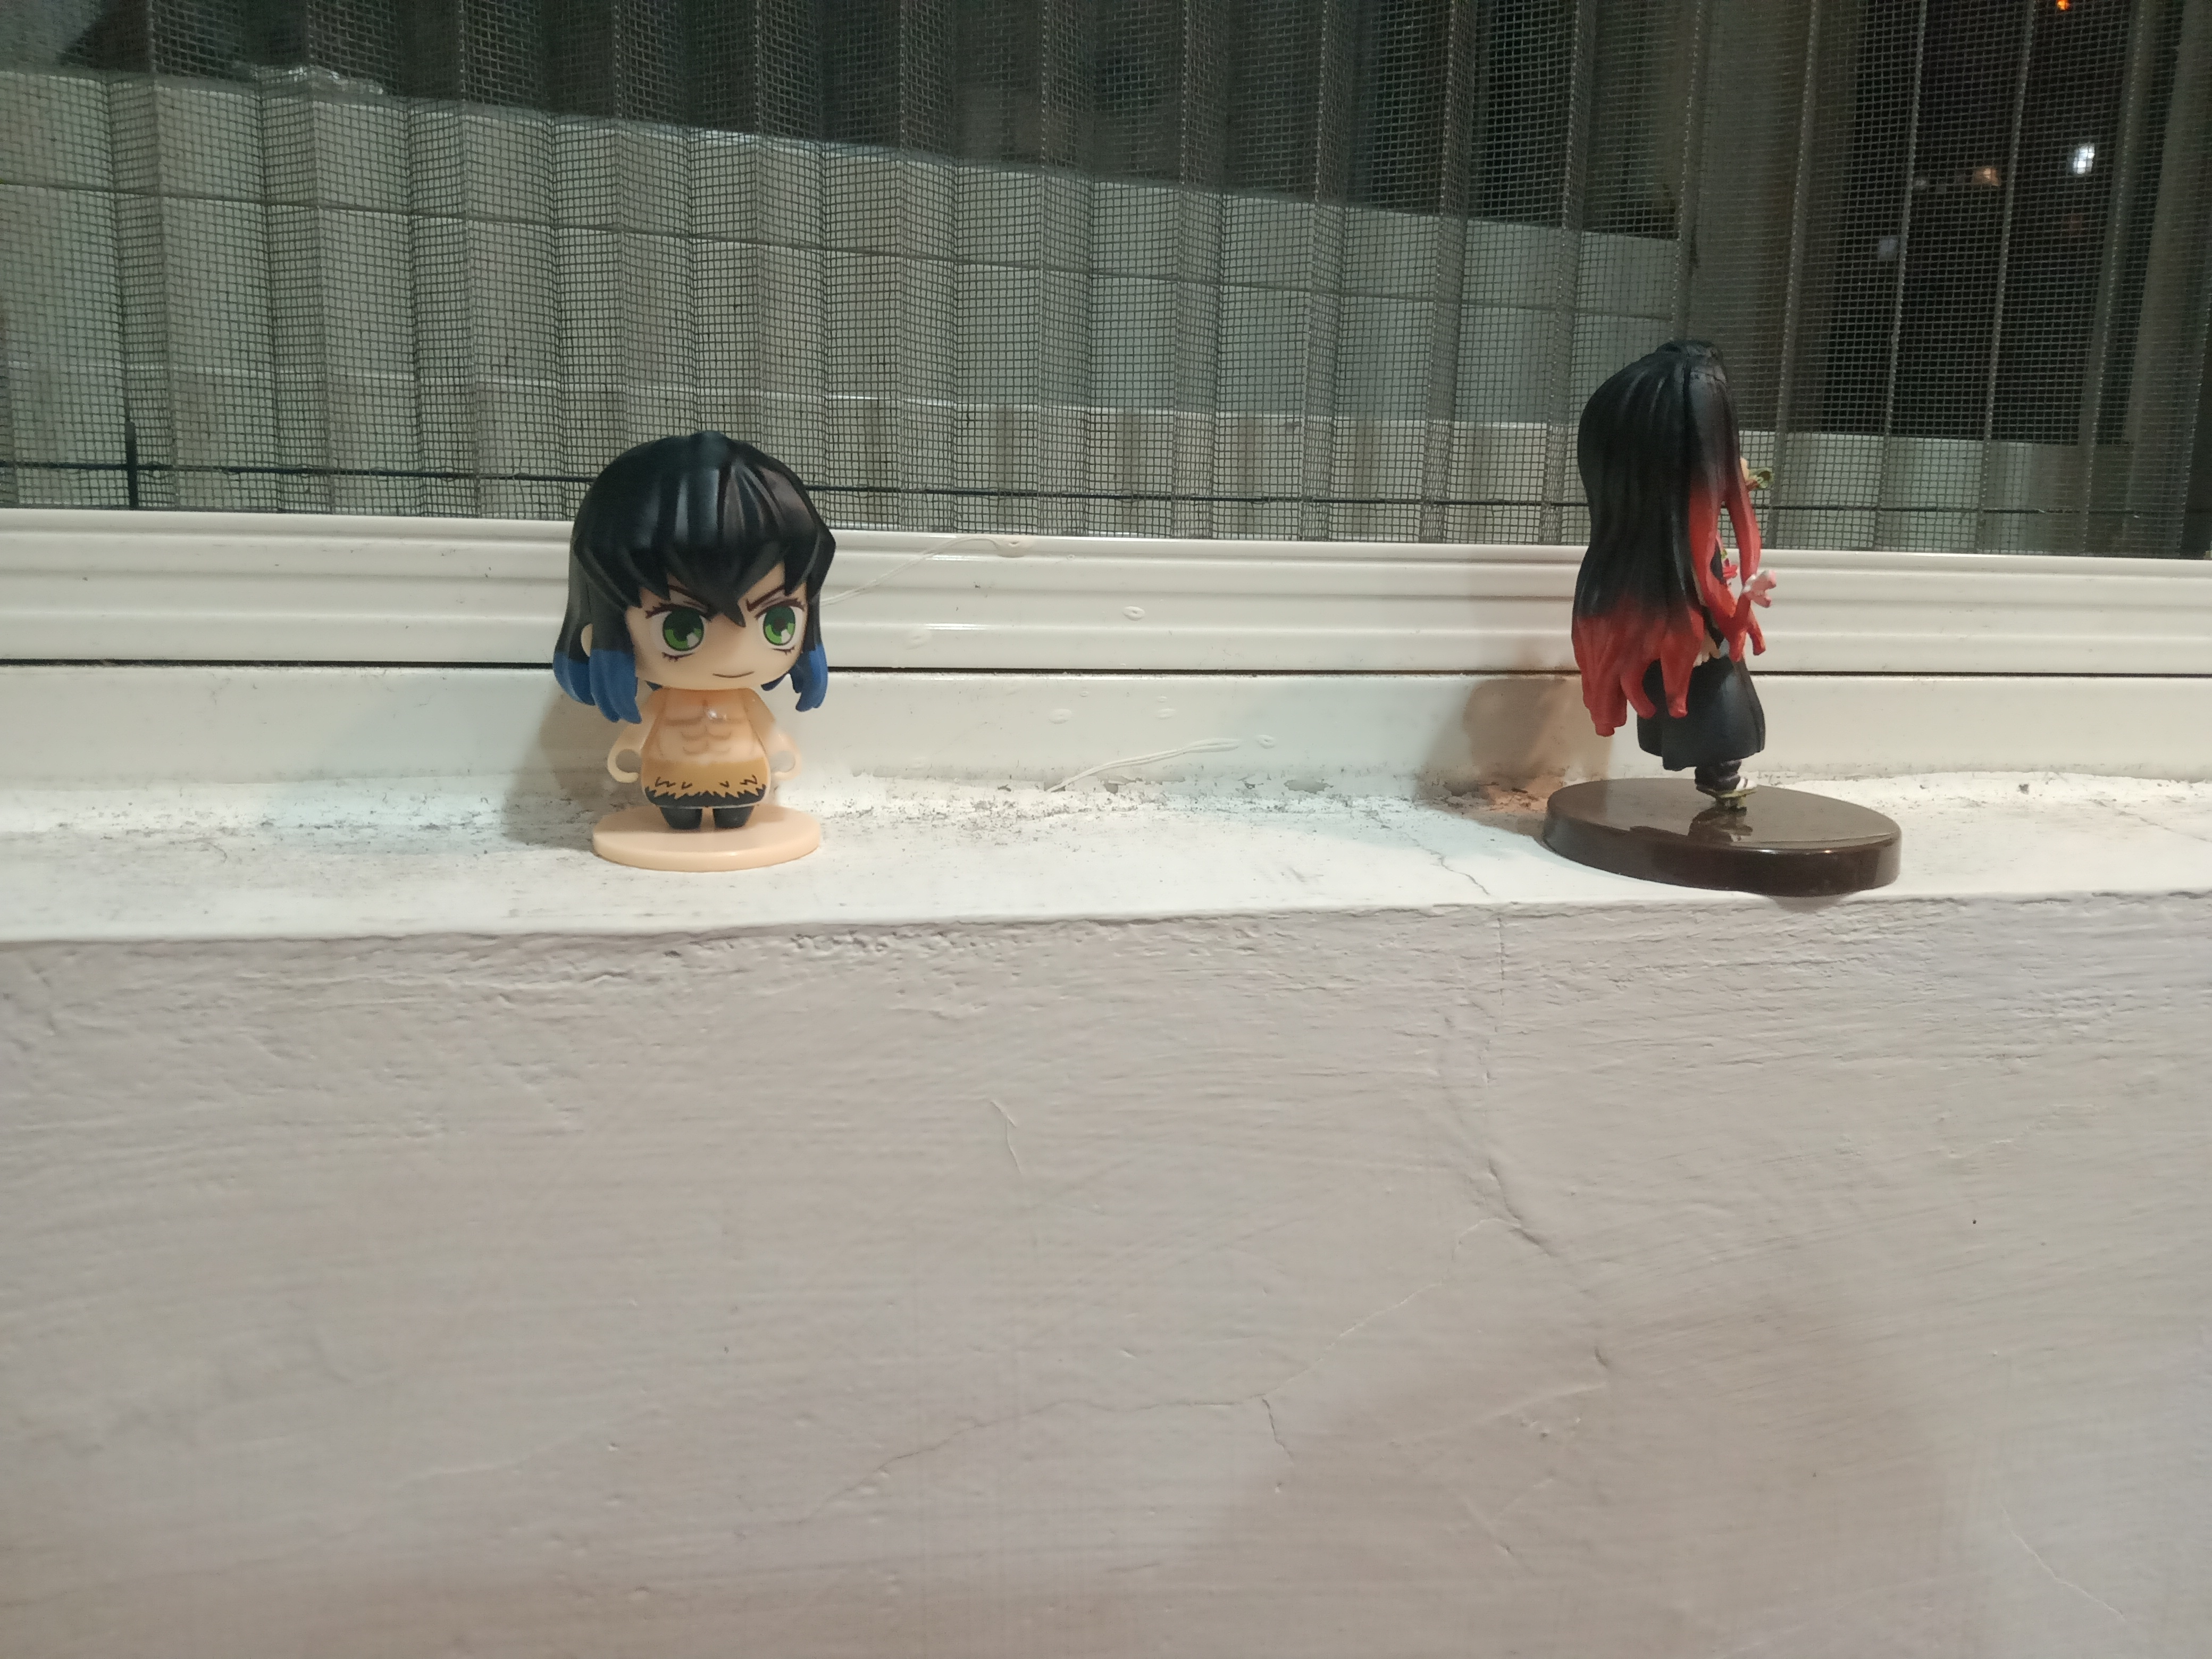Inosuke: (523, 416, 866, 880)
Nezuko: (1510, 298, 1914, 915)
